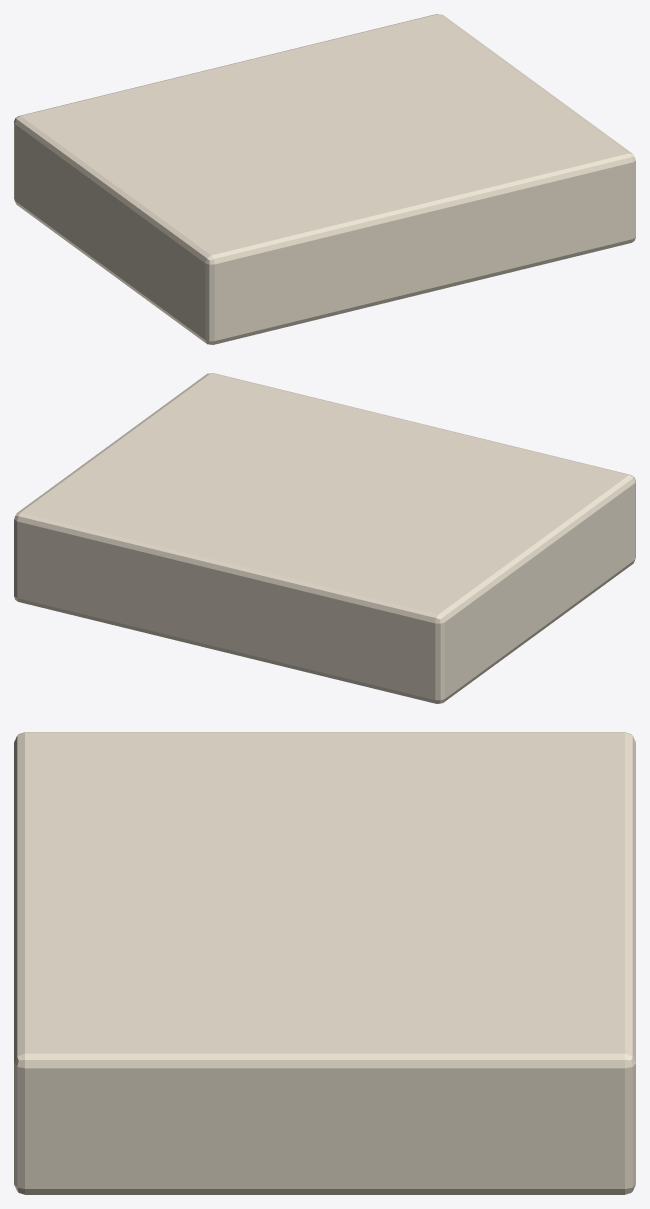
Rendered from Deck_S_Frag_plate_b_lab.glb.
The picture shows the model from 3 angles, top to bottom: view 1: azimuth 30°, elevation 25°; view 2: azimuth 150°, elevation 25°; view 3: azimuth 270°, elevation 25°; orthographic projection. The views are drawn at different scales.
Visible parts, largest first — view 1: Deck_S_Frag_plate_b; view 2: Deck_S_Frag_plate_b; view 3: Deck_S_Frag_plate_b.
Part boxes in pixels (left/top/right/bottom): Deck_S_Frag_plate_b: left=14, top=14, right=635, bottom=344; Deck_S_Frag_plate_b: left=14, top=373, right=635, bottom=703; Deck_S_Frag_plate_b: left=14, top=732, right=635, bottom=1194.
Size of the model in its own units: 1.76 by 0.35 by 1.4.
